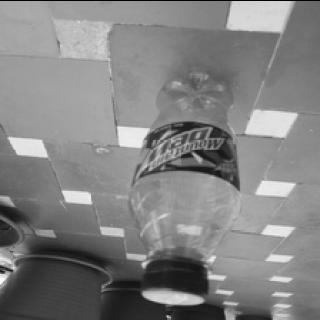plastic_bottles: (128, 64, 242, 308)
